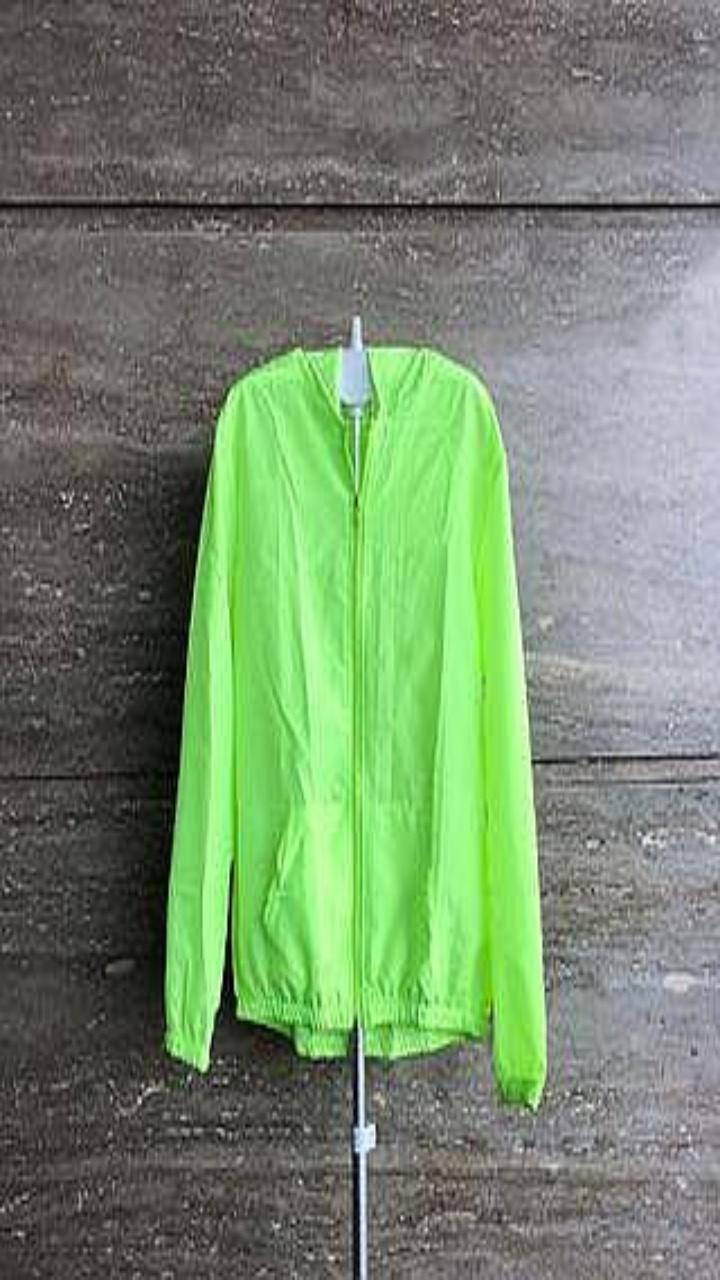Sports_Jacket: (164, 345, 545, 1109)
